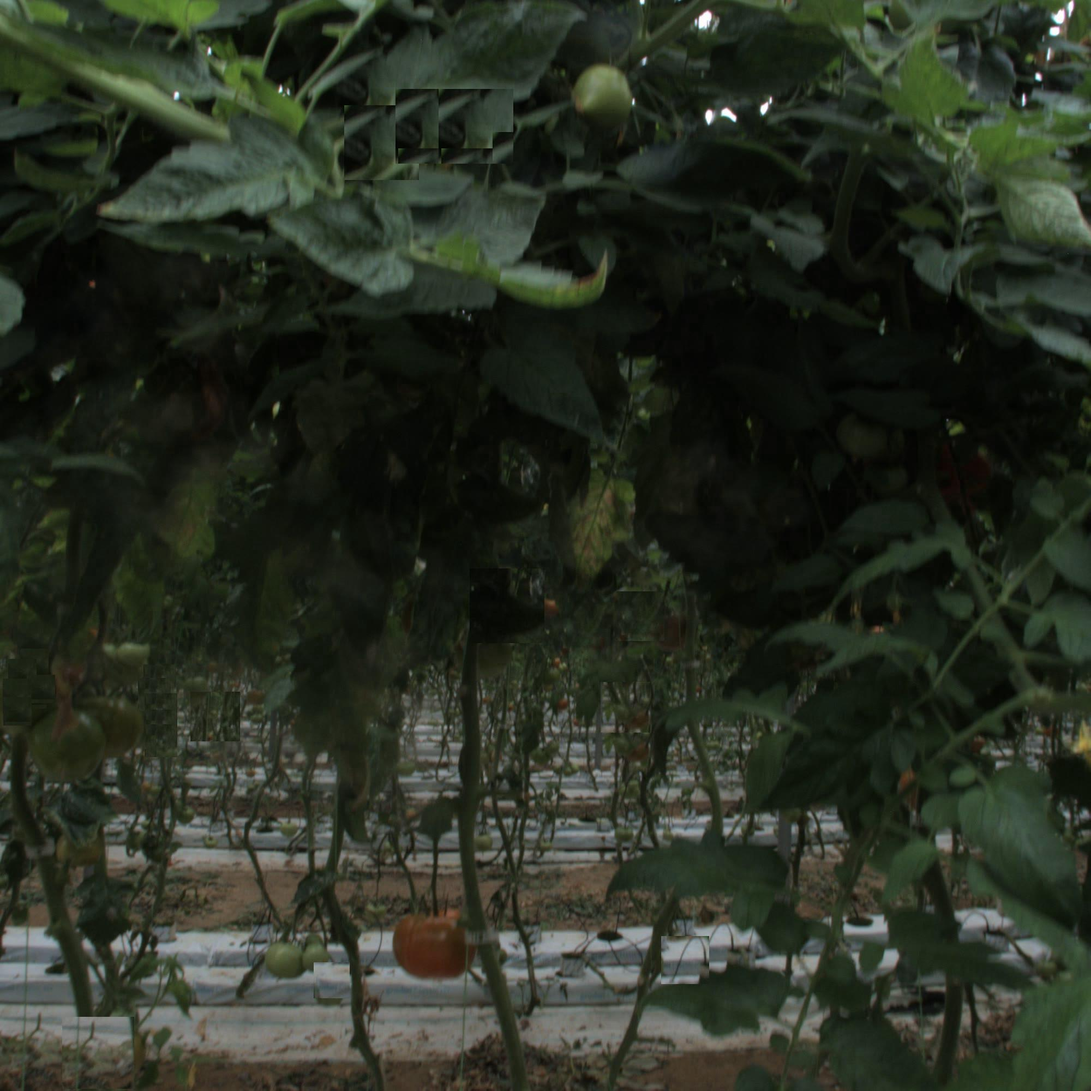fully-ripe: (395, 905, 470, 979)
unripe: (21, 705, 101, 786), (73, 693, 145, 765), (566, 63, 637, 134), (261, 940, 306, 985)
